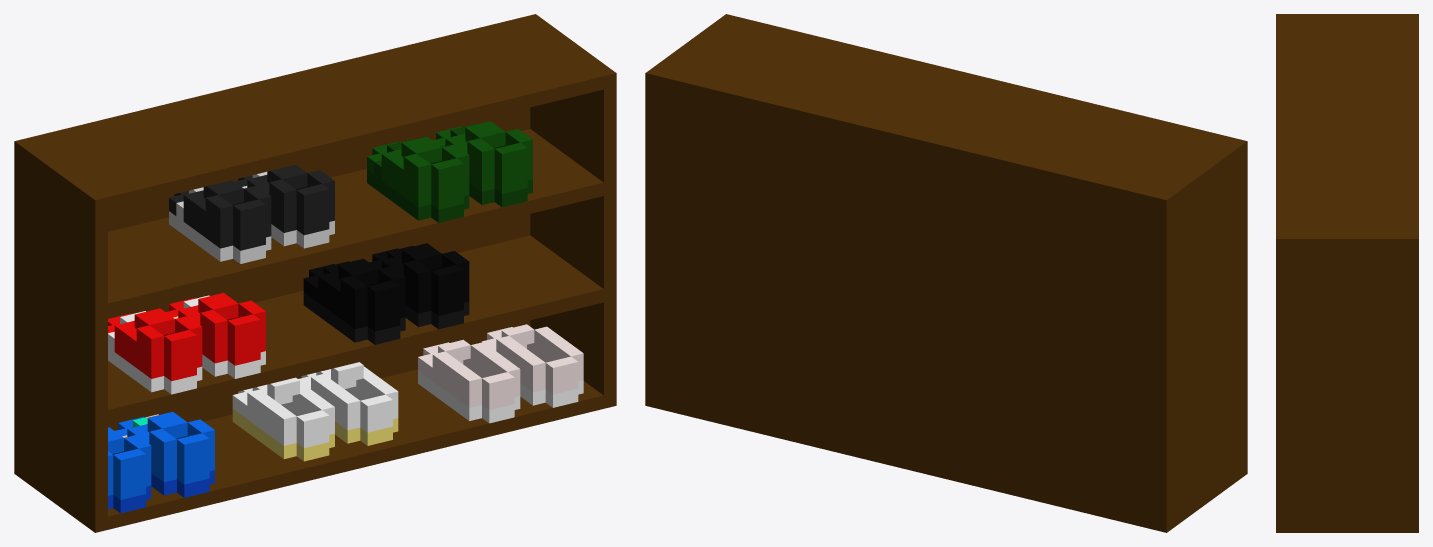
File: Shoe Shelf.obj
The picture shows the model from 3 angles, left to right: view 1: azimuth 30°, elevation 25°; view 2: azimuth 150°, elevation 25°; view 3: azimuth 270°, elevation 25°; orthographic projection. The views are drawn at different scales.
Size of the model in its own units: 4.1 by 2.5 by 1.1.
1 material, 1 textured.
